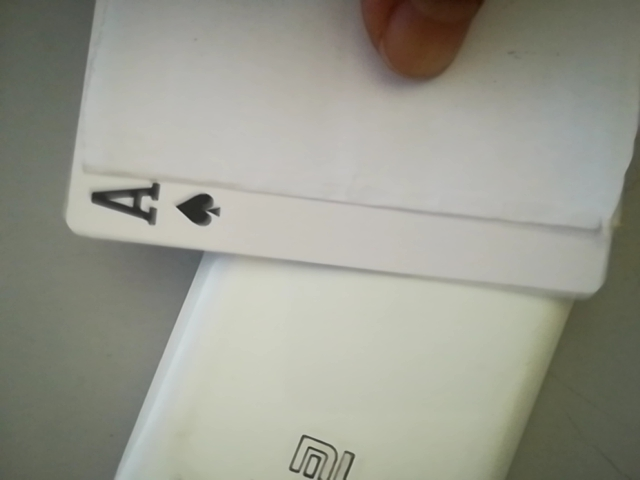ht a: (71, 170, 241, 245)
